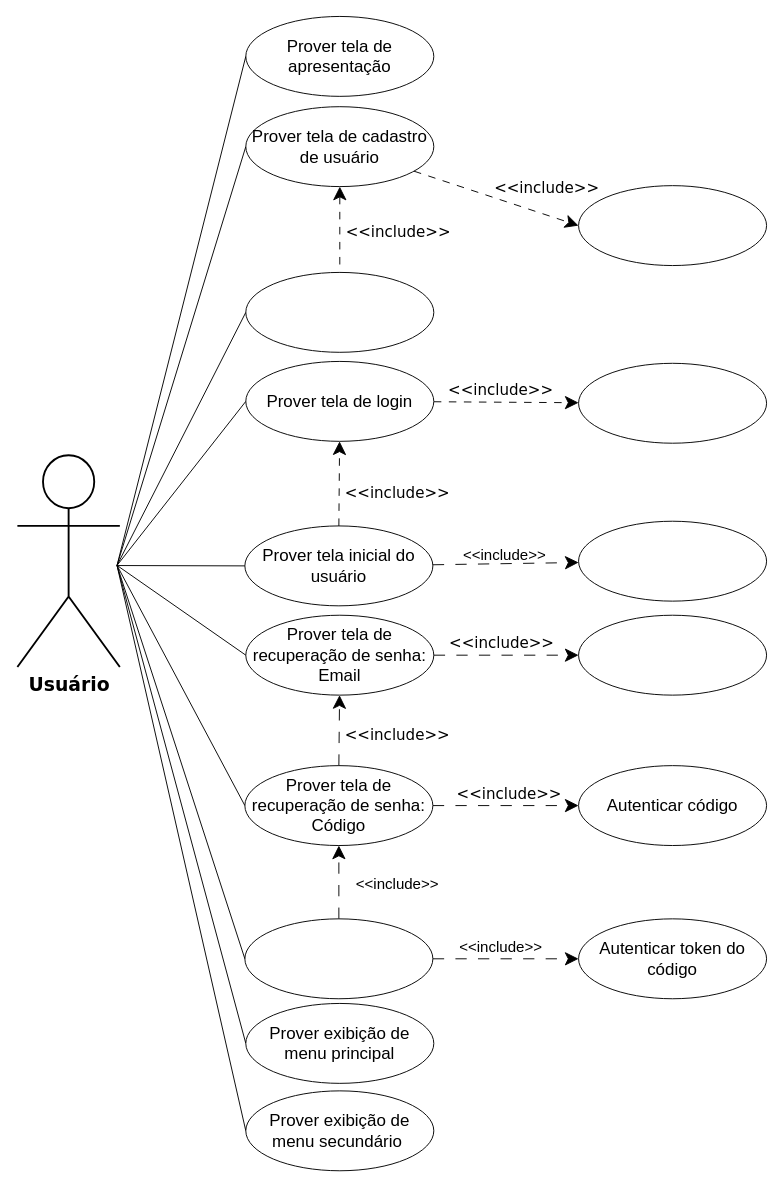
Image size: 783x1187. Some labels were removed from this diagram. The shapes that lost their labels are listed below. From the top down, each one's centre as x and y in pixels, then its label:
At pixel 672 225: "Verificar informações do cadastro".
At pixel 339 311: "Prover tela de inserir idade".
At pixel 672 402: "Verificar informações de login e fonecer token".
At pixel 672 560: "Carregar configurações salvas do usuário no banco de dados".
At pixel 672 654: "Enviar código para email".
At pixel 338 958: "Prover tela de recuperação de senha: Nova Senha".
